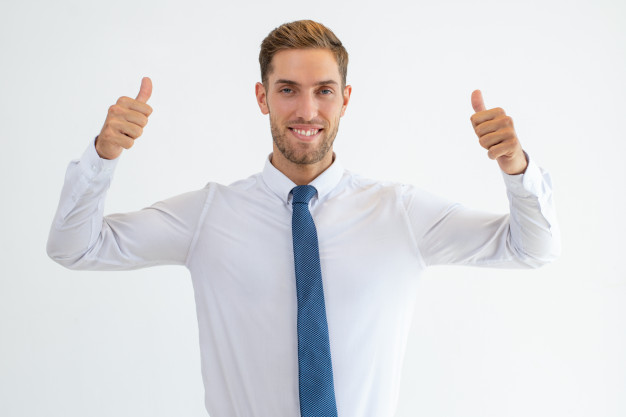thumbsup: (100, 77, 153, 149), (470, 89, 518, 159)
